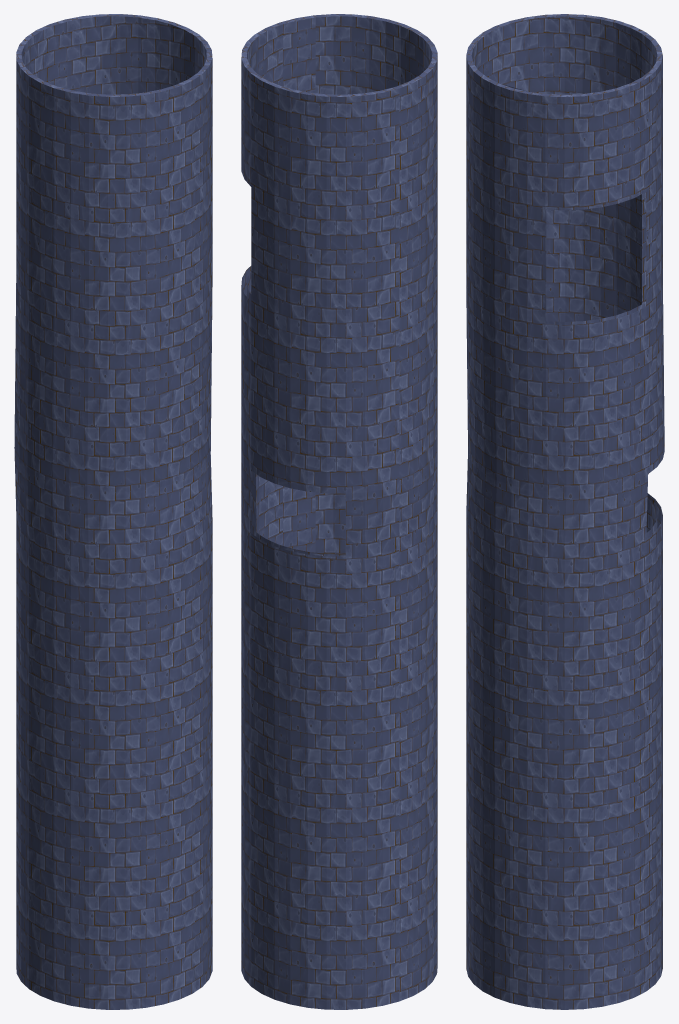
The model's file is RoundWallLP.fbx.
3 views of the same model, side by side, from view 1: azimuth 30°, elevation 25°; view 2: azimuth 150°, elevation 25°; view 3: azimuth 270°, elevation 25° (orthographic).
Visible parts, largest first — view 1: Roundwall_1; view 2: Roundwall_1; view 3: Roundwall_1.
Boxes of the visible parts, x1,y1,x2,y2 form: Roundwall_1: (14,14,212,1009); Roundwall_1: (241,14,437,1009); Roundwall_1: (466,14,664,1009).
Size of the model in its own units: 212 by 1080 by 213.
